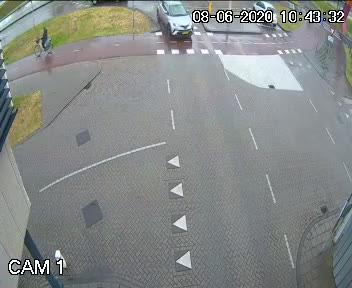car: (150, 0, 201, 52)
